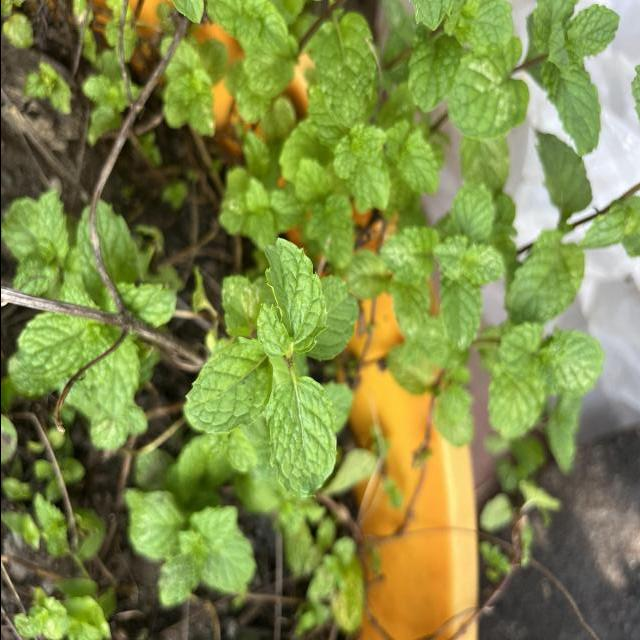Mentha spicata: (264, 374, 338, 498), (183, 335, 273, 436)
